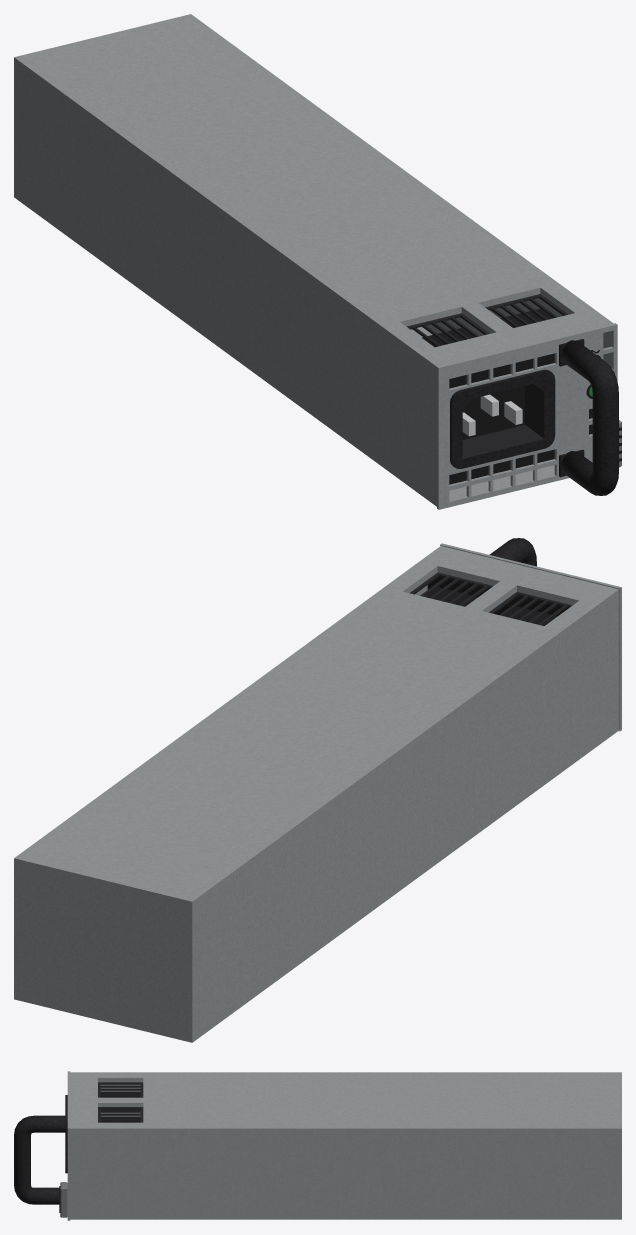
The model's file is PA-3200-PSU-650W-AC.glb.
The picture shows the model from 3 angles, top to bottom: view 1: azimuth 30°, elevation 25°; view 2: azimuth 150°, elevation 25°; view 3: azimuth 270°, elevation 25°; orthographic projection. The views are drawn at different scales.
Parts seen in each view (by area): view 1: PSU; view 2: PSU; view 3: PSU.
Boxes of the visible parts, <box> form: PSU: <box>14,14,621,509</box>; PSU: <box>14,538,621,1042</box>; PSU: <box>14,1071,621,1220</box>.
Bounding box in the file's own units: 0.0534 × 0.0405 × 0.2417.
Materials: 9 (2 with a texture image).
